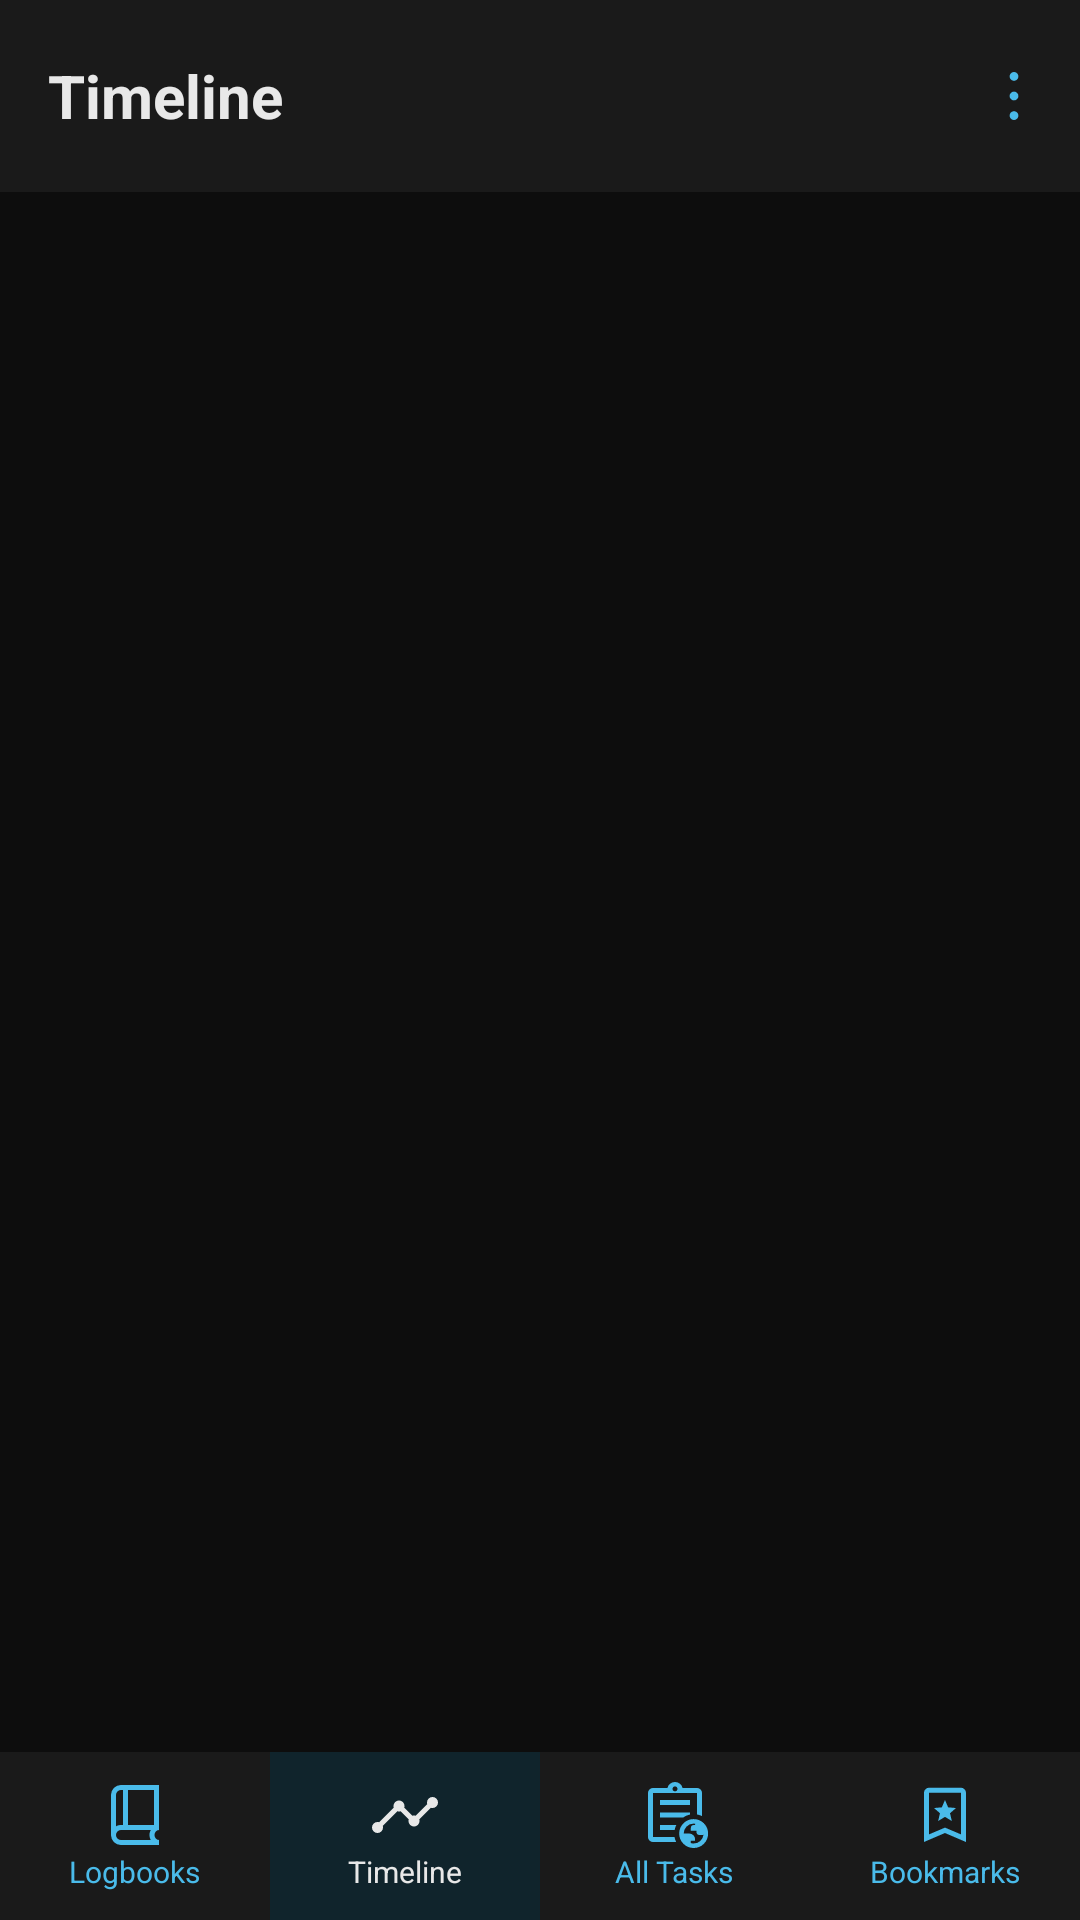

Icons on this 1080 × 1920 Android screen, each with the point to tap as point (x, y):
More options: point (1014, 96)
